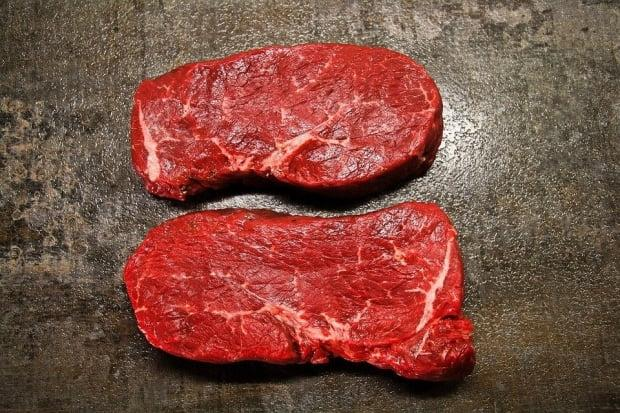beef: (116, 132, 467, 254), (112, 25, 437, 130)
